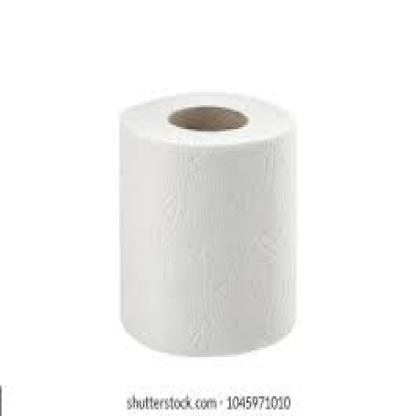tissue: (118, 89, 303, 358)
